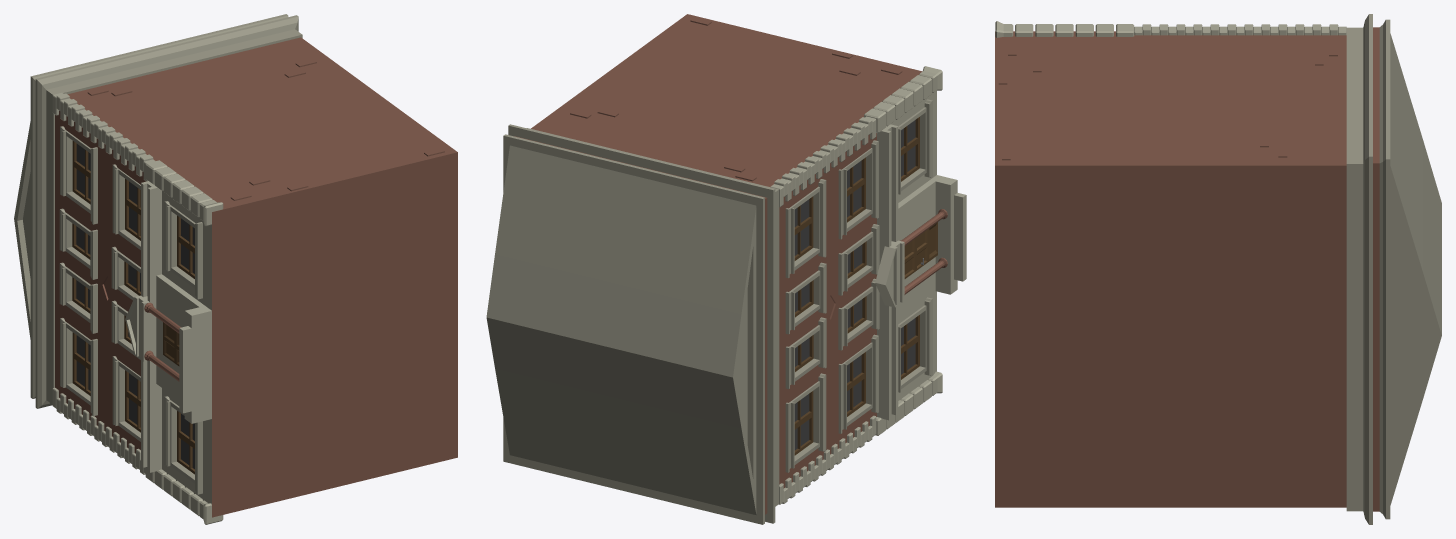
The model's file is building2_right.glb.
3 views of the same model, side by side, from view 1: azimuth 30°, elevation 25°; view 2: azimuth 150°, elevation 25°; view 3: azimuth 270°, elevation 25° (orthographic). The views are drawn at different scales.
Parts seen in each view (by area): view 1: Building3_Big; view 2: Building3_Big; view 3: Building3_Big.
Boxes of the visible parts, box(x1,y1,x2,y2) form: Building3_Big: box(14, 14, 457, 524); Building3_Big: box(486, 14, 966, 524); Building3_Big: box(995, 14, 1441, 524).
Size of the model in its own units: 9 by 10 by 11.
